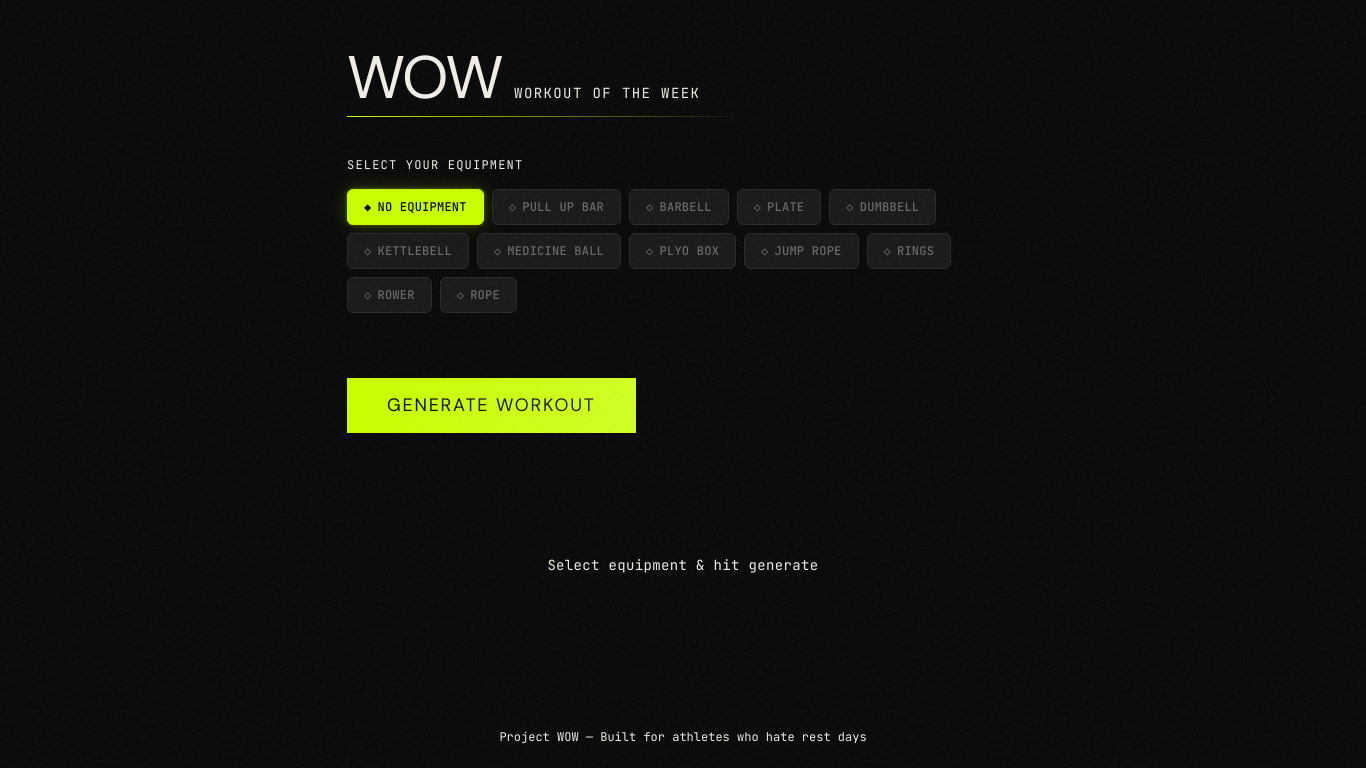
Test: Integration: Generate & Shuffle › renders a classic WOD when matched WODs are found
Step 1. Click the button "Generate Workout" → [491, 406], box [347,378,636,433]
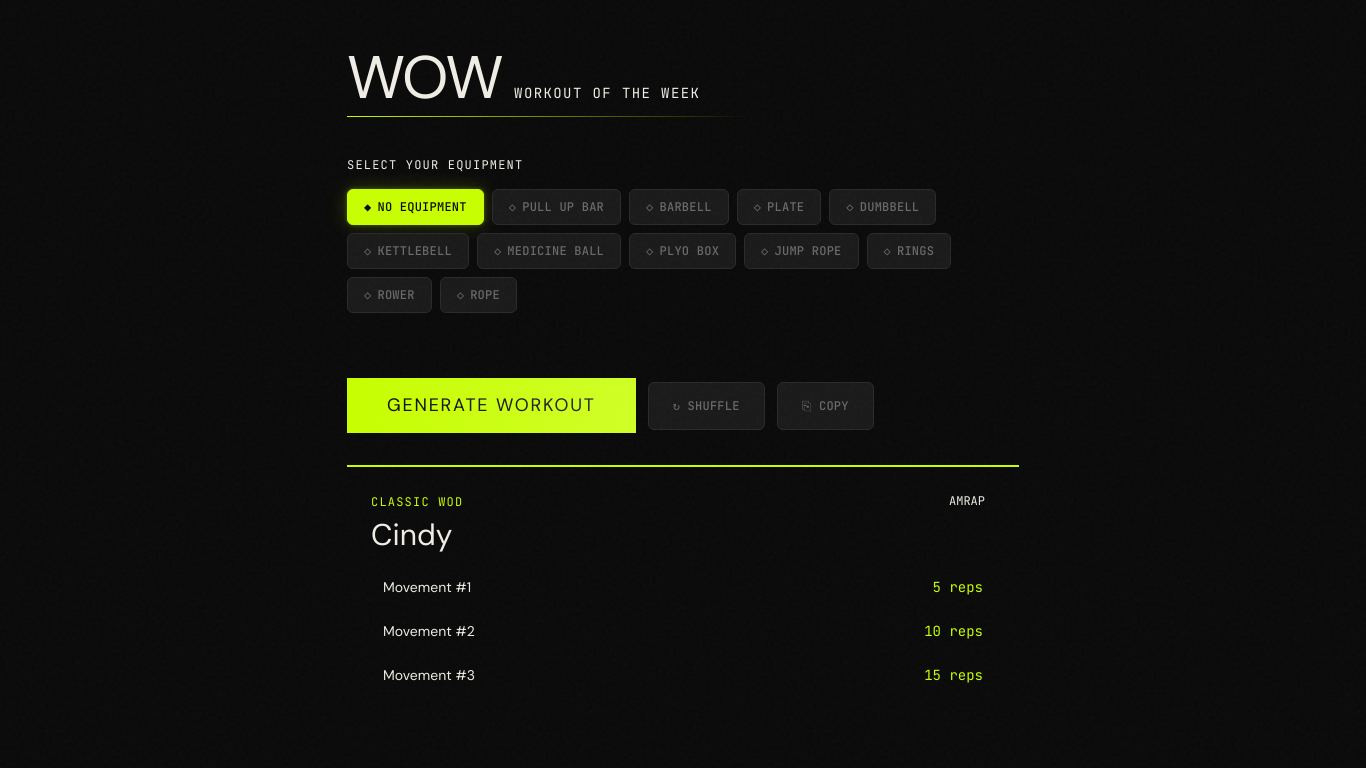
Result: the text "Classic WOD" is shown at [371,494,463,510]
Result: the heading "Cindy" is shown at [371,517,463,553]
